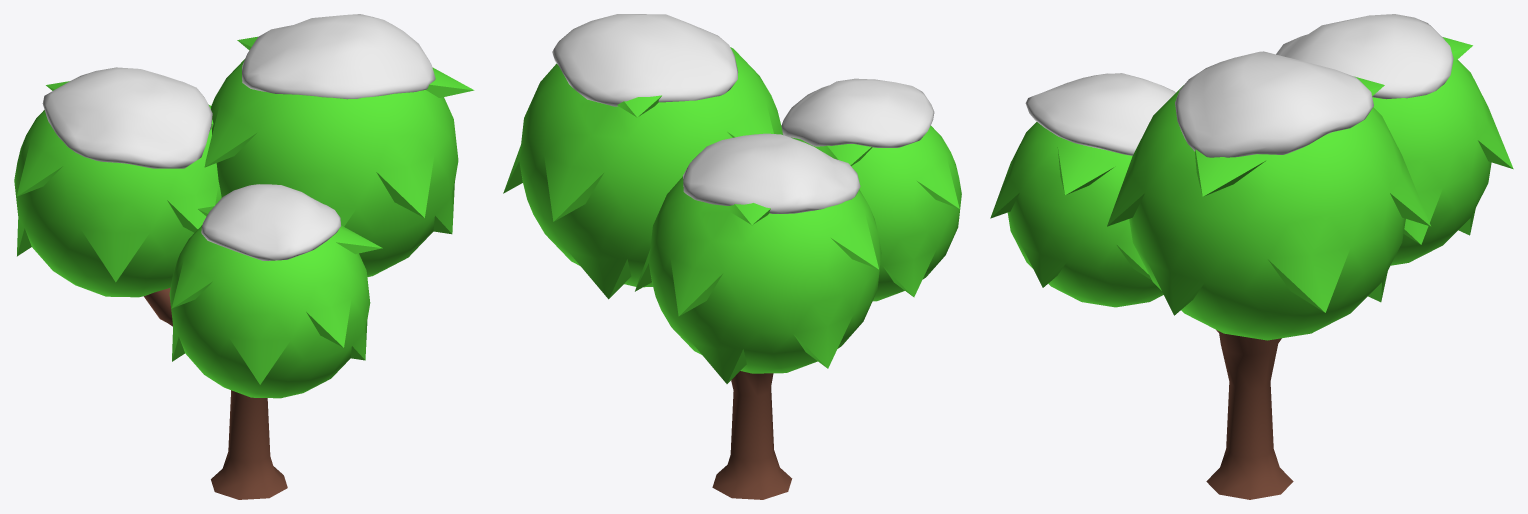
Rendered from tree2_snow.fbx.
The picture shows the model from 3 angles, left to right: view 1: azimuth 30°, elevation 25°; view 2: azimuth 150°, elevation 25°; view 3: azimuth 270°, elevation 25°; orthographic projection. The views are drawn at different scales.
Parts seen in each view (by area): view 1: Icosphere.005, Icosphere.006, Cylinder.002; view 2: Icosphere.005, Icosphere.006, Cylinder.002; view 3: Icosphere.005, Icosphere.006, Cylinder.002.
Boxes of the visible parts, bbox=[...] form: Icosphere.005: bbox=[14, 36, 474, 398]; Icosphere.006: bbox=[42, 14, 435, 260]; Cylinder.002: bbox=[144, 287, 287, 499]; Icosphere.005: bbox=[503, 47, 961, 383]; Icosphere.006: bbox=[552, 14, 934, 213]; Cylinder.002: bbox=[712, 371, 792, 499]; Icosphere.005: bbox=[990, 37, 1513, 340]; Icosphere.006: bbox=[1025, 14, 1453, 157]; Cylinder.002: bbox=[1206, 330, 1293, 499].
Bounding box in the file's own units: 446 × 470 × 481.
